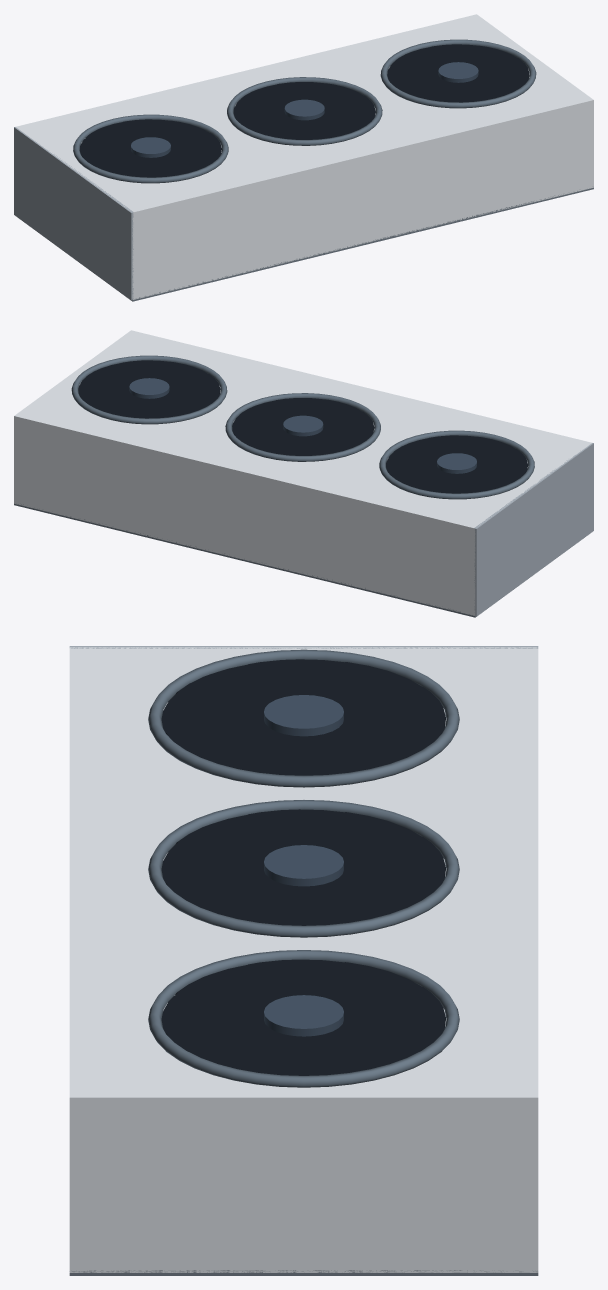
File: retail-asus-rog-strix-geforce-rtx-3090-white-oc-edition-24gb.glb
3 views of the same model, one above another, from view 1: azimuth 30°, elevation 25°; view 2: azimuth 150°, elevation 25°; view 3: azimuth 270°, elevation 25° (orthographic). The views are drawn at different scales.
Visible parts, largest first — view 1: Cooler shroud, Cooler blade (×27), Bracket, Fan rim (×3), Fan hub (×3), Backplate; view 2: Cooler shroud, Cooler blade (×27), Bracket, Fan rim (×3), Fan hub (×3), Backplate; view 3: Cooler shroud, Cooler blade (×27), Fan rim (×3), Fan hub (×3), Backplate, Bracket.
Boxes of the visible parts, box(x1,y1,x2,y2) form: Cooler shroud: box(15, 14, 593, 299); Cooler blade (×27): box(79, 44, 529, 177); Bracket: box(14, 127, 133, 300); Fan rim (×3): box(73, 39, 536, 183); Fan hub (×3): box(131, 62, 478, 157); Backplate: box(24, 187, 593, 301); Cooler shroud: box(14, 330, 592, 615); Cooler blade (×27): box(78, 360, 527, 493); Bracket: box(474, 443, 593, 616); Fan rim (×3): box(71, 355, 534, 499); Fan hub (×3): box(129, 378, 476, 473); Backplate: box(14, 503, 583, 617); Cooler shroud: box(69, 647, 538, 1272); Cooler blade (×27): box(161, 659, 445, 1075); Fan rim (×3): box(148, 649, 459, 1087); Fan hub (×3): box(264, 695, 343, 1036); Backplate: box(69, 1270, 538, 1275); Bracket: box(69, 646, 538, 648).
Bounding box in the file's own units: 0.3195 × 0.0623 × 0.1401.
